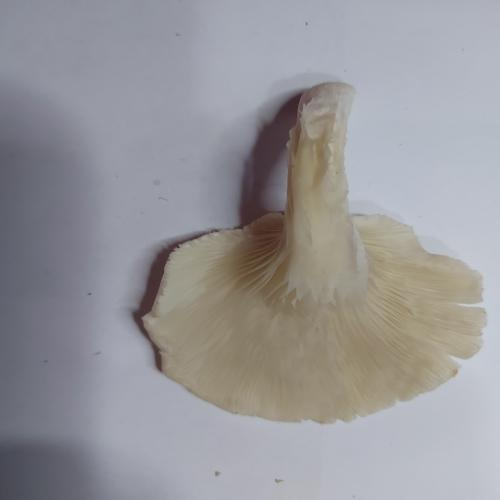Oyster Mushroom: (141, 81, 488, 425)
